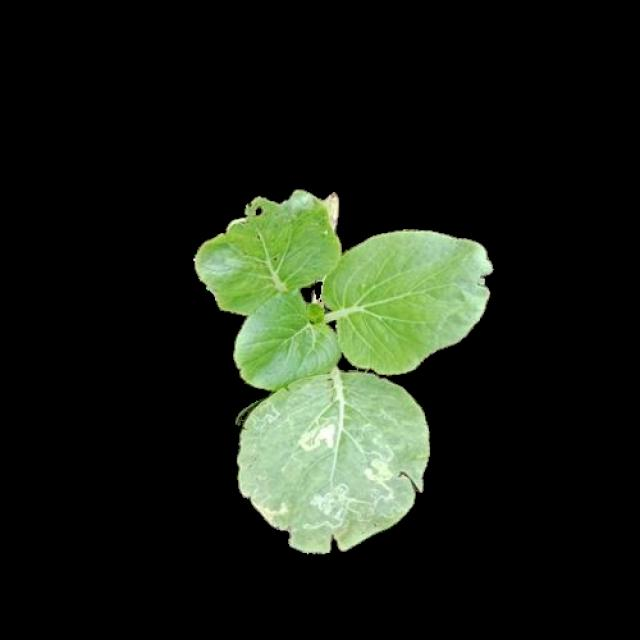not-mature: (194, 188, 492, 550)
unhealthy: (234, 370, 430, 550), (197, 192, 343, 311)
